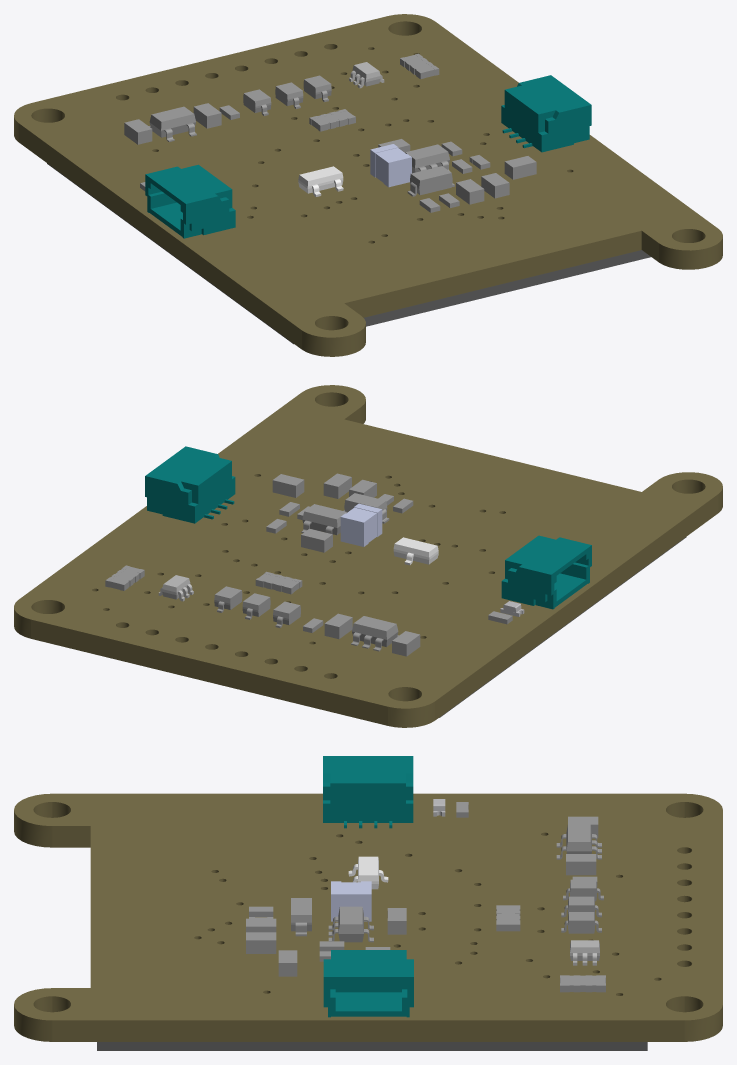
File: ada-4741.glb
3 renders of one model, top to bottom at view 1: azimuth 30°, elevation 25°; view 2: azimuth 150°, elevation 25°; view 3: azimuth 270°, elevation 25°, orthographic. The views are drawn at different scales.
Visible parts, largest first — view 1: 0.16666666666666666_0.16666666666666666_0.08333333333333333_, 0.3333333333333333_0.3333333333333333_0.3333333333333333_0, 0_0.25_0.25_0, 0.16666666666666666_0.16666666666666666_0.16666666666666666_, 0.5833333333333334_0.6666666666666666_0.8333333333333334_0, 0.9166666666666666_0.9166666666666666_0.9166666666666666_0.8, 0.5_0.5_0.5_0.85; view 2: 0.16666666666666666_0.16666666666666666_0.08333333333333333_, 0_0.25_0.25_0, 0.3333333333333333_0.3333333333333333_0.3333333333333333_0, 0.5833333333333334_0.6666666666666666_0.8333333333333334_0, 0.9166666666666666_0.9166666666666666_0.9166666666666666_0.8, 0.5_0.5_0.5_0.85; view 3: 0.16666666666666666_0.16666666666666666_0.08333333333333333_, 0_0.25_0.25_0, 0.3333333333333333_0.3333333333333333_0.3333333333333333_0, 0.16666666666666666_0.16666666666666666_0.16666666666666666_, 0.5833333333333334_0.6666666666666666_0.8333333333333334_0, 0.9166666666666666_0.9166666666666666_0.9166666666666666_0.8, 0.5_0.5_0.5_0.85.
Part boxes in pixels (left/top/right/bottom): 0.16666666666666666_0.16666666666666666_0.08333333333333333_: left=14, top=14, right=722, bottom=356; 0.3333333333333333_0.3333333333333333_0.3333333333333333_0: left=124, top=53, right=536, bottom=212; 0_0.25_0.25_0: left=145, top=75, right=591, bottom=238; 0.16666666666666666_0.16666666666666666_0.16666666666666666_: left=47, top=163, right=650, bottom=344; 0.5833333333333334_0.6666666666666666_0.8333333333333334_0: left=370, top=144, right=411, bottom=187; 0.9166666666666666_0.9166666666666666_0.9166666666666666_0.8: left=298, top=166, right=343, bottom=196; 0.5_0.5_0.5_0.85: left=349, top=62, right=384, bottom=88; 0.16666666666666666_0.16666666666666666_0.08333333333333333_: left=14, top=385, right=722, bottom=727; 0_0.25_0.25_0: left=145, top=446, right=591, bottom=609; 0.3333333333333333_0.3333333333333333_0.3333333333333333_0: left=105, top=473, right=512, bottom=656; 0.5833333333333334_0.6666666666666666_0.8333333333333334_0: left=340, top=503, right=382, bottom=546; 0.9166666666666666_0.9166666666666666_0.9166666666666666_0.8: left=393, top=537, right=438, bottom=565; 0.5_0.5_0.5_0.85: left=158, top=575, right=193, bottom=601; 0.16666666666666666_0.16666666666666666_0.08333333333333333_: left=14, top=793, right=722, bottom=1041; 0_0.25_0.25_0: left=323, top=756, right=413, bottom=1017; 0.3333333333333333_0.3333333333333333_0.3333333333333333_0: left=246, top=802, right=605, bottom=992; 0.16666666666666666_0.16666666666666666_0.16666666666666666_: left=97, top=1042, right=647, bottom=1050; 0.5833333333333334_0.6666666666666666_0.8333333333333334_0: left=331, top=881, right=371, bottom=921; 0.9166666666666666_0.9166666666666666_0.9166666666666666_0.8: left=348, top=856, right=388, bottom=889; 0.5_0.5_0.5_0.85: left=570, top=940, right=599, bottom=965.
Bounding box in the file's own units: 3.56 × 0.5631 × 4.7.
